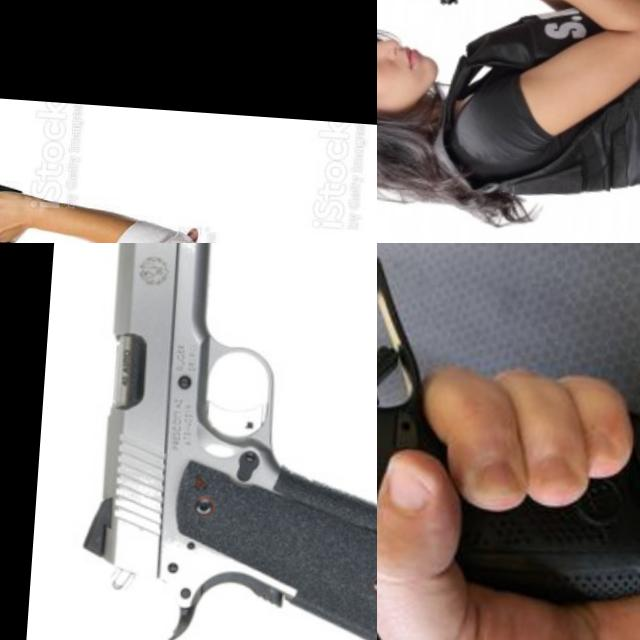handgun: (71, 243, 377, 640), (377, 243, 640, 640), (377, 0, 479, 43), (0, 213, 76, 243)
